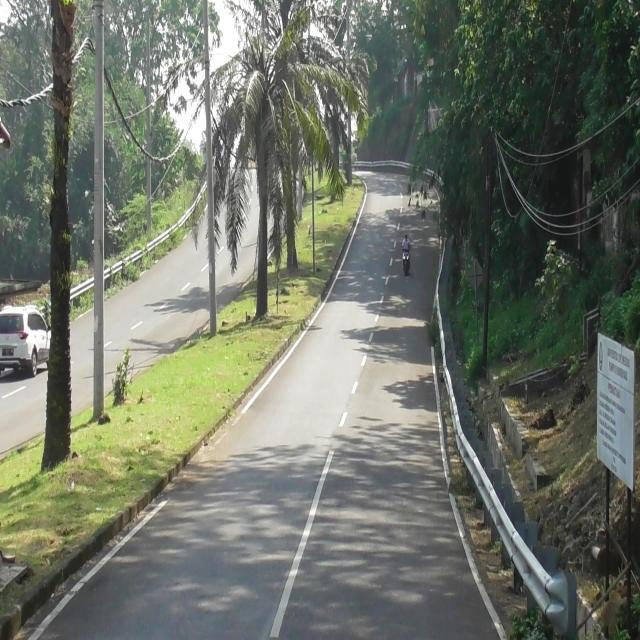motorcycle: (403, 247, 410, 276)
person: (402, 233, 411, 252)
rider_region: (402, 229, 411, 275)
